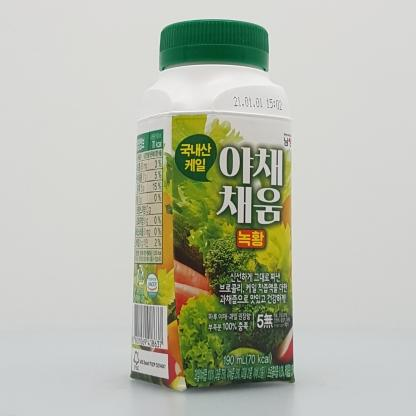---------190ML: (130, 19, 297, 391)
